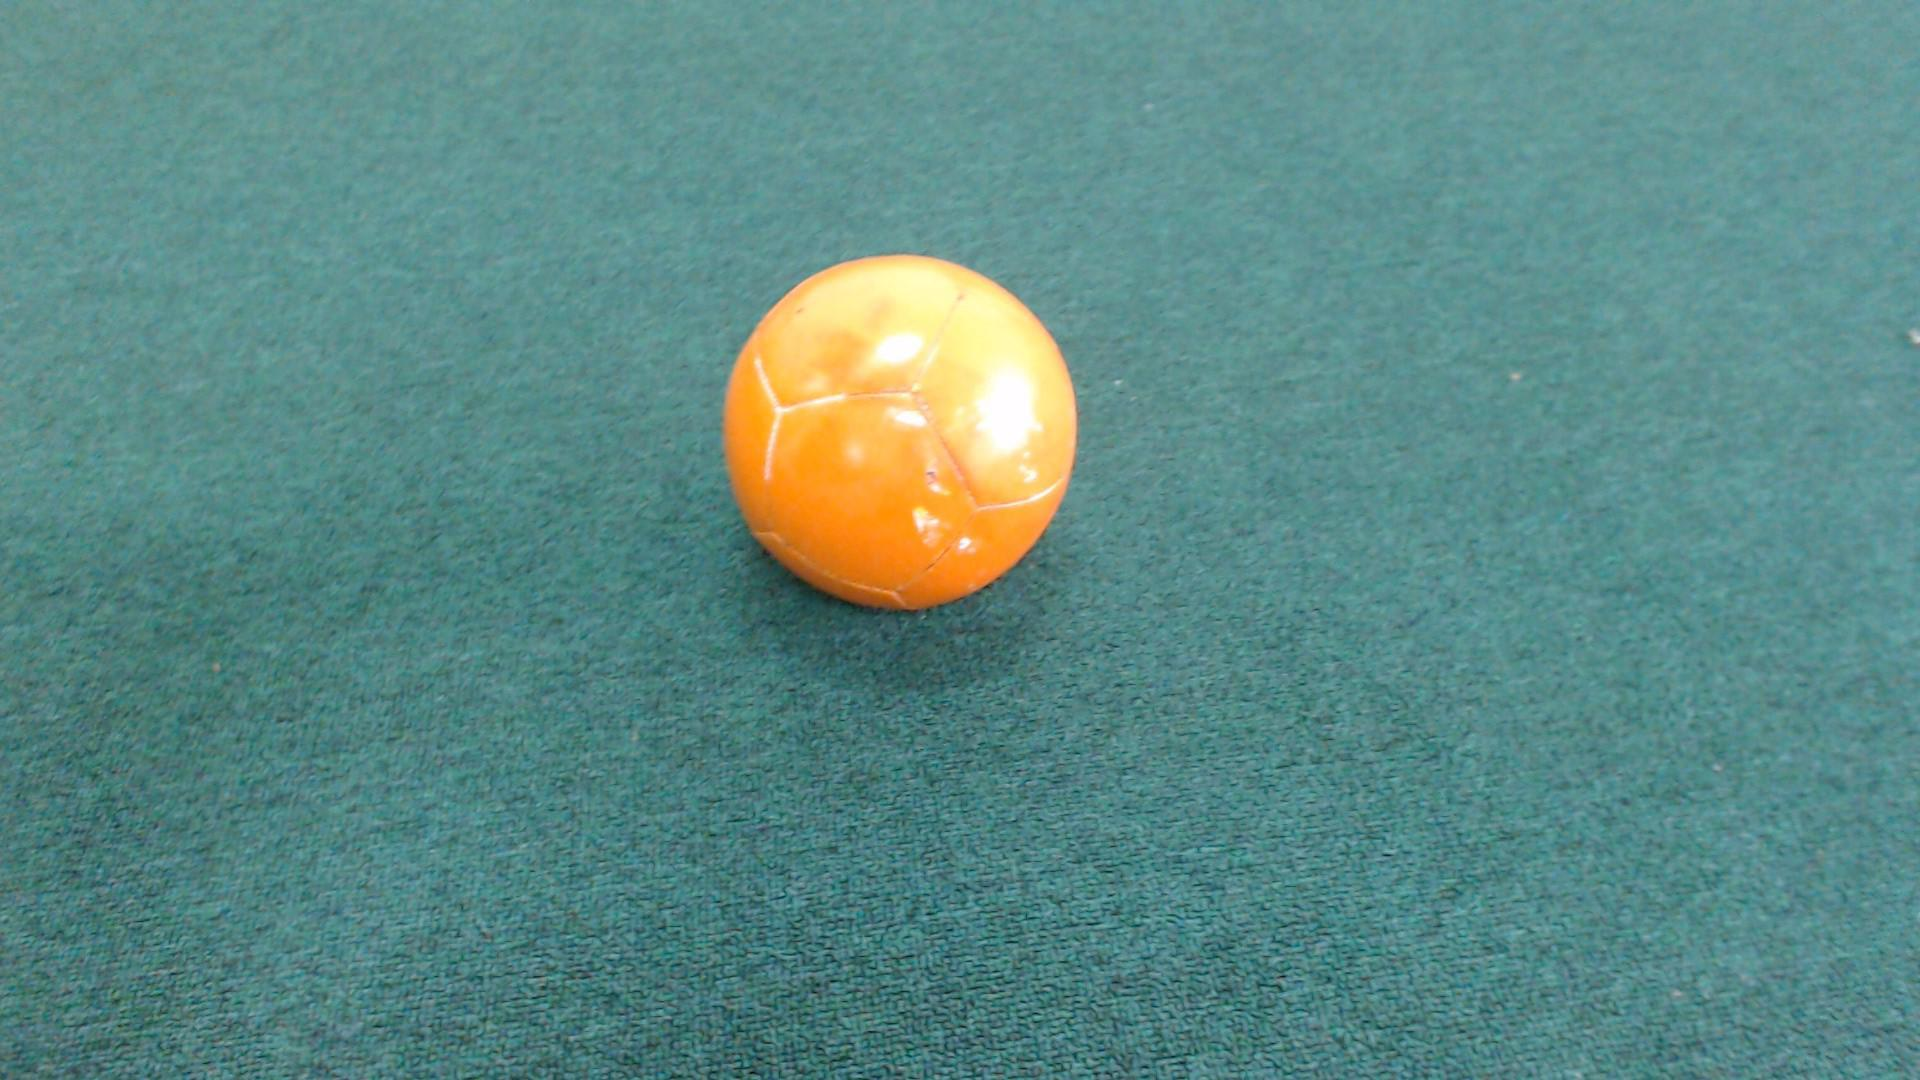bola: (686, 244, 1116, 636)
